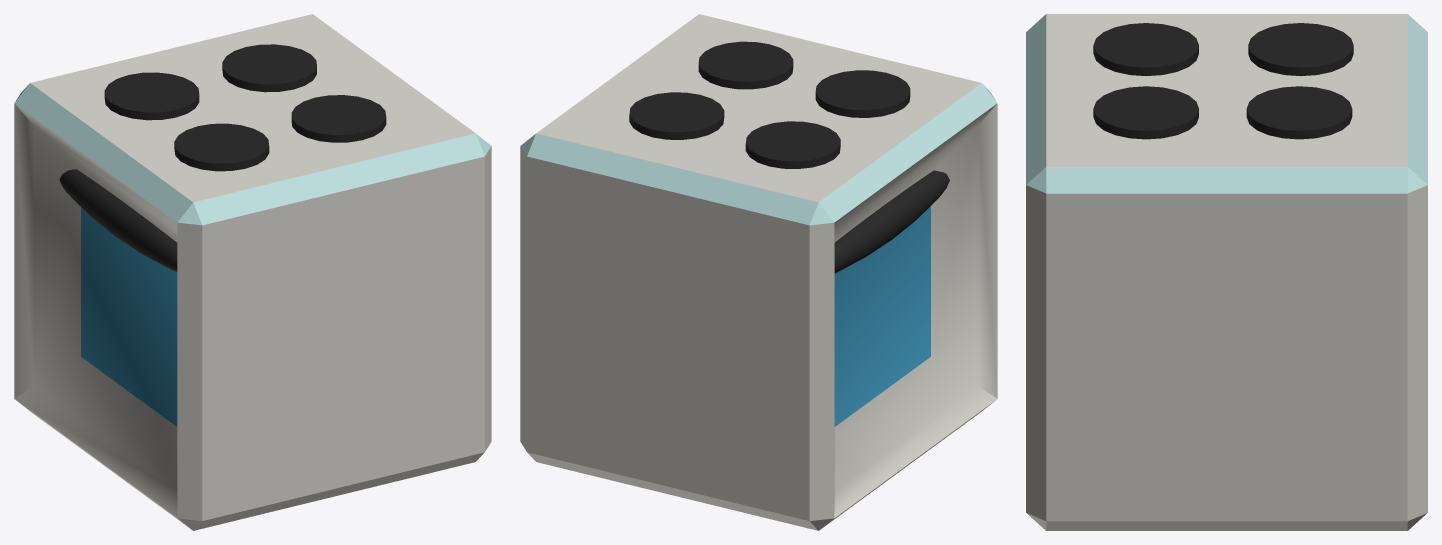
Rendered from STOVE.fbx.
3 renders of one model, left to right at view 1: azimuth 30°, elevation 25°; view 2: azimuth 150°, elevation 25°; view 3: azimuth 270°, elevation 25°, orthographic. The views are drawn at different scales.
Visible parts, largest first — view 1: STOVE; view 2: STOVE; view 3: STOVE.
Boxes of the visible parts, left/top/right/bottom form: STOVE: left=14, top=14, right=491, bottom=530; STOVE: left=520, top=14, right=997, bottom=530; STOVE: left=1026, top=14, right=1427, bottom=530.
Size of the model in its own units: 7.61 by 7.79 by 7.61.
